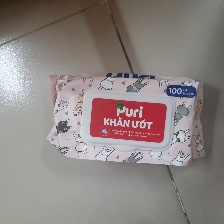Puri hong: (45, 73, 208, 168)
